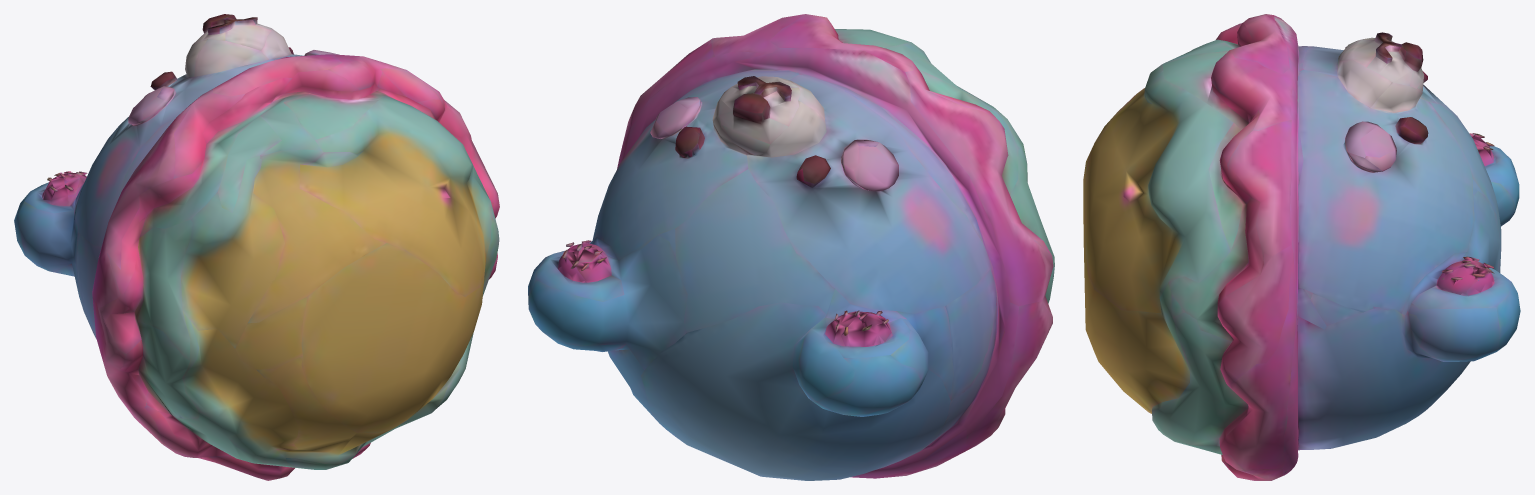
3 views of the same model, side by side, from view 1: azimuth 30°, elevation 25°; view 2: azimuth 150°, elevation 25°; view 3: azimuth 270°, elevation 25° (orthographic). The views are drawn at different scales.
Visible parts, largest first — view 1: material; view 2: material; view 3: material.
Boxes of the visible parts, x1=… form: material: x1=14, y1=14, x2=499, y2=480; material: x1=528, y1=14, x2=1054, y2=480; material: x1=1083, y1=14, x2=1520, y2=480.
Bounding box in the file's own units: 1 × 0.9998 × 0.942.
1 material, 1 textured.
